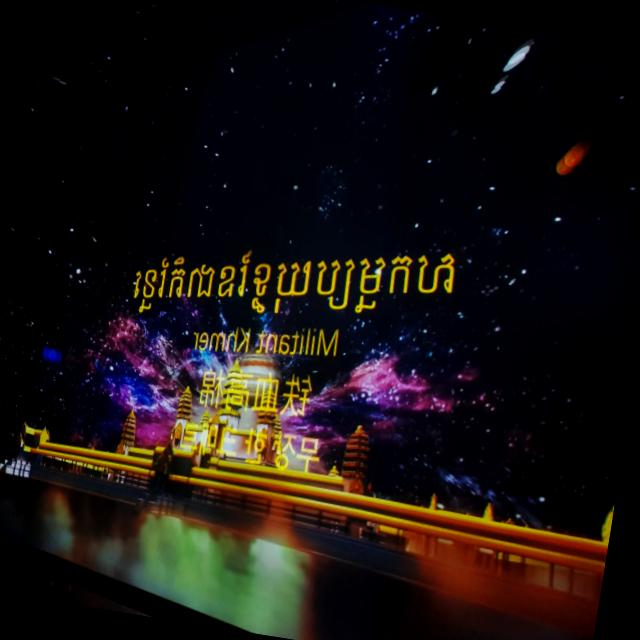Yolov11_80vkh: (119, 241, 464, 332)
